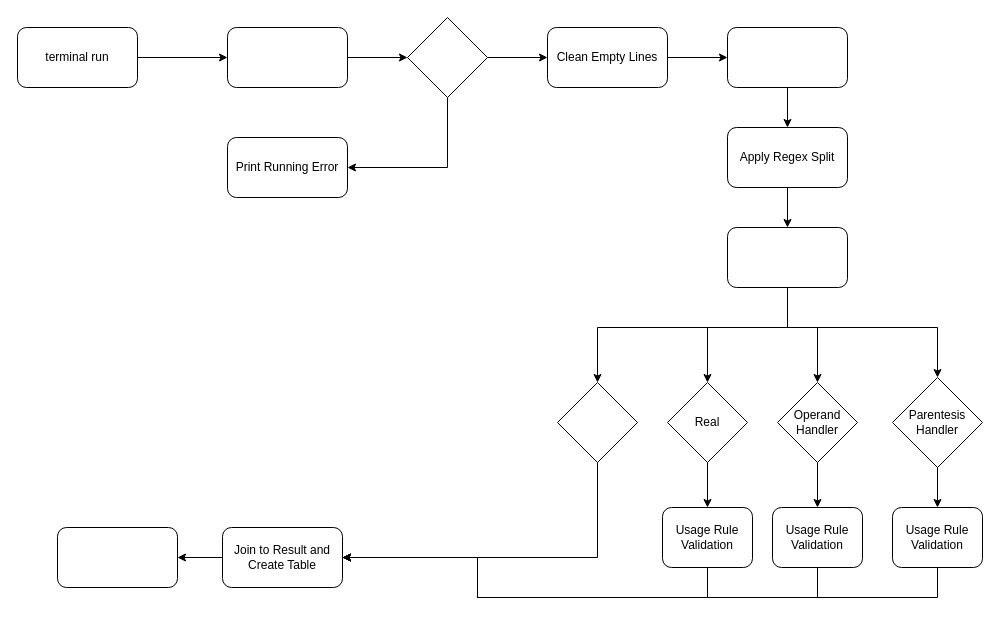
Image size: 1000x623. Some labels were removed from this diagram. The box of each missing label's shape, as (x1, y1, x2, y2) in pixels:
Classify Different Patterns: (726, 226, 848, 288)
Comment: (556, 382, 638, 462)
Iterate For Each Line: (726, 26, 848, 88)
Open File: (226, 26, 348, 88)
Opened: (406, 16, 488, 98)
Print Result and Errors per line: (56, 526, 178, 588)
